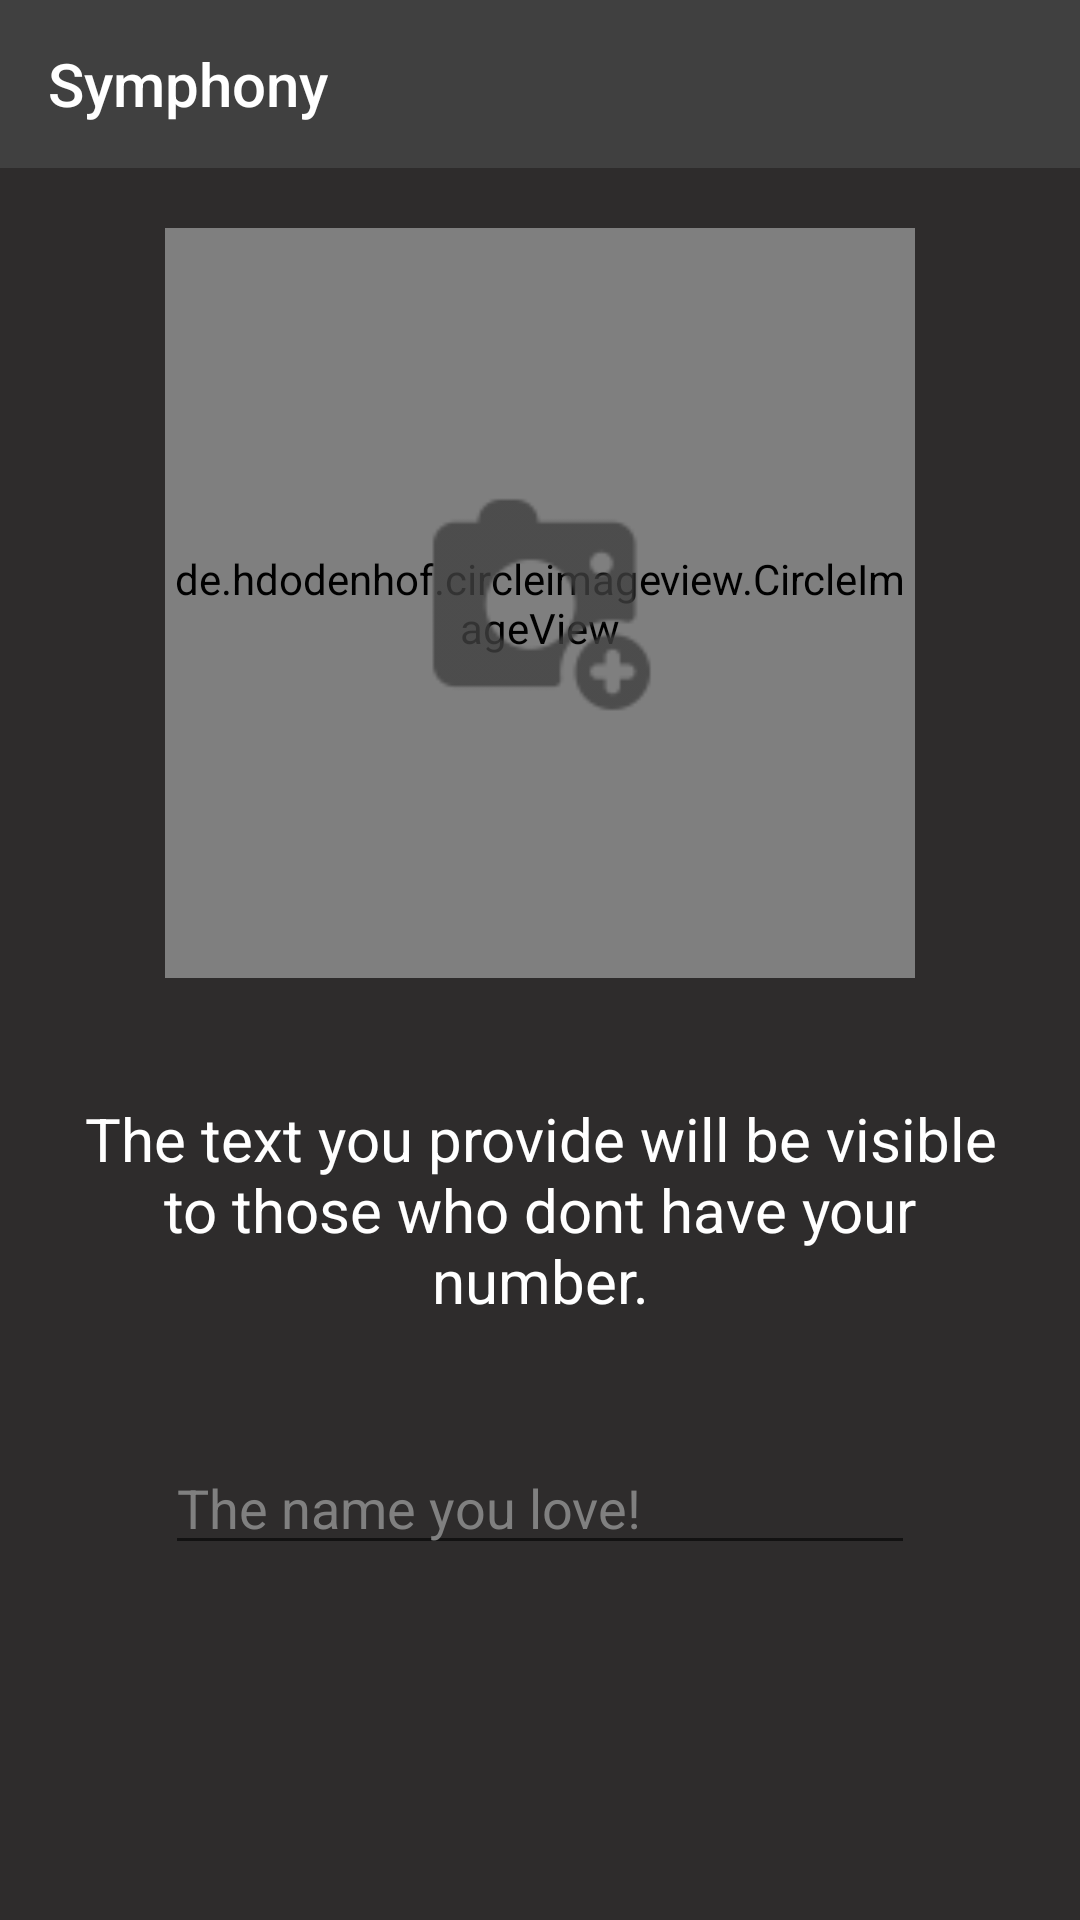

Where icons sit on this 1080px×1920px app screen, as bbox=[x1, y1, x2, y2]:
add: bbox=[420, 500, 660, 710]
